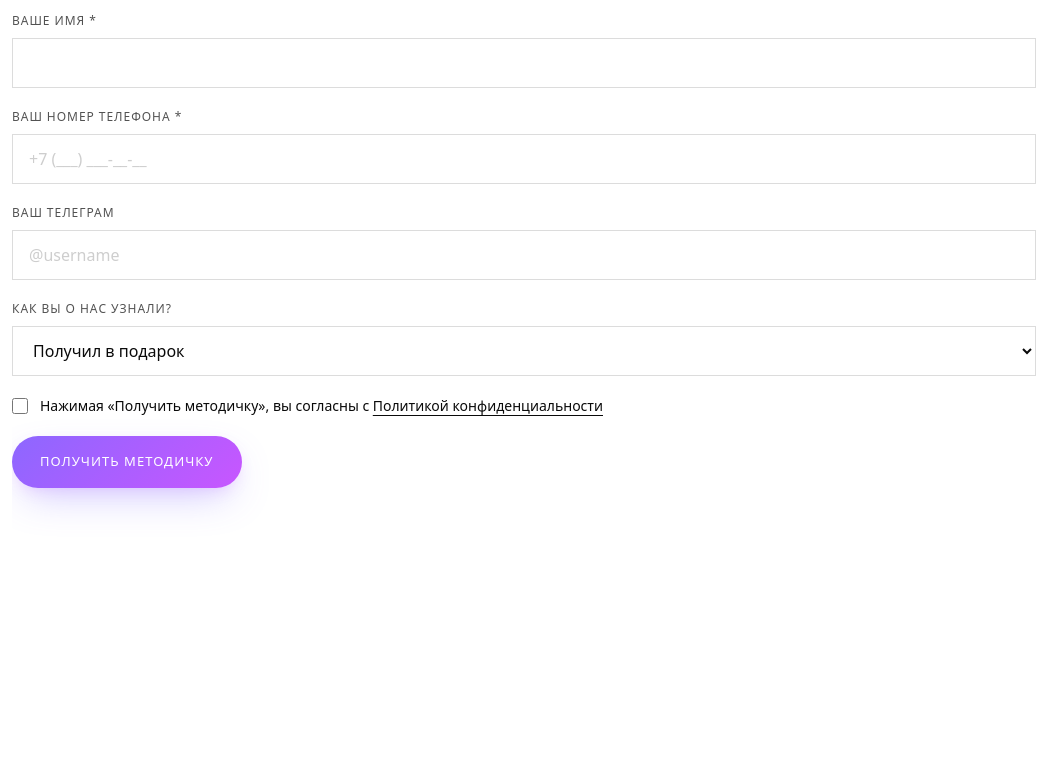
it: <MaterialsForm> › blocks submit and shows errors for an empty form
Click the button "Получить методичку": (127, 462) [12,436,242,488]
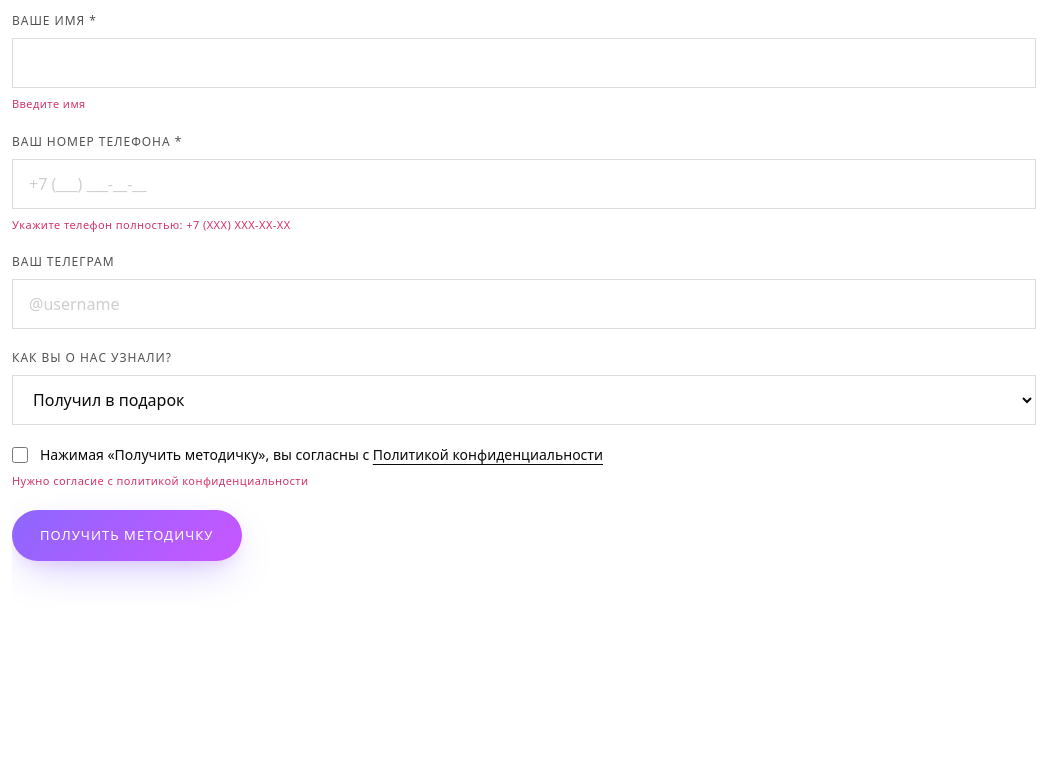
Now the text "Введите имя" is shown, box [12,96,86,111]
Now the text "Укажите телефон полностью: +7 (XXX) XXX-XX-XX" is shown, box [12,216,291,232]
Now the text "Нужно согласие с политикой конфиденциальности" is shown, box [12,473,308,488]
